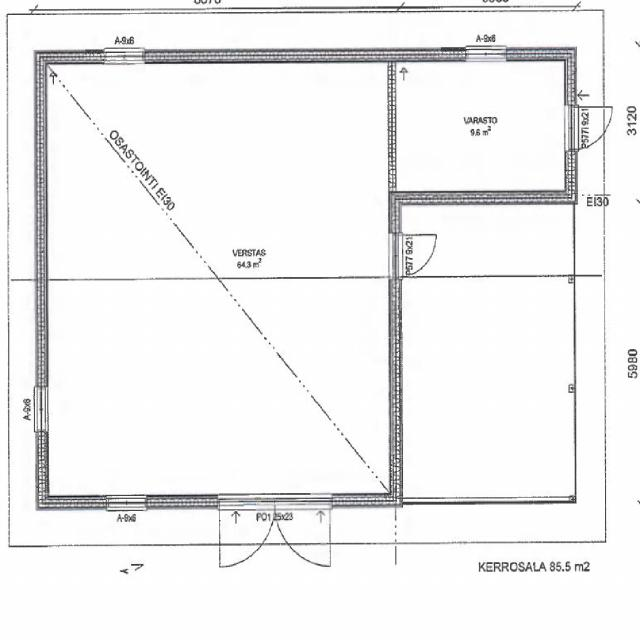door: (275, 493, 331, 572), (218, 493, 274, 572), (564, 107, 616, 149), (388, 235, 438, 275)
